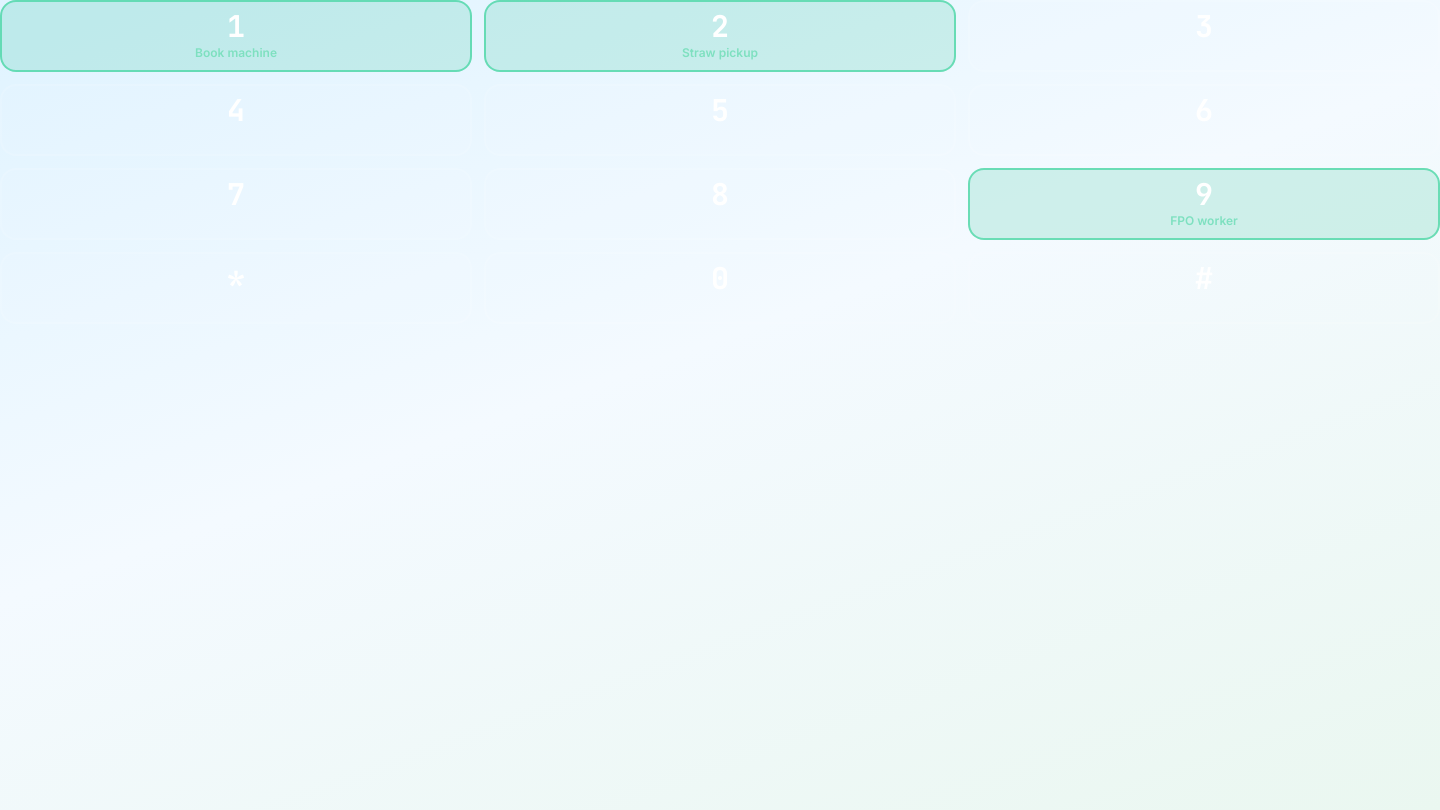
Test: KeypadPanel flow › 0 goes back to the menu and books nothing
The width and height of the screenshot is (1440, 810).
Click the button with aria-label "Press 2" at (720, 36), box [484,0,956,72]
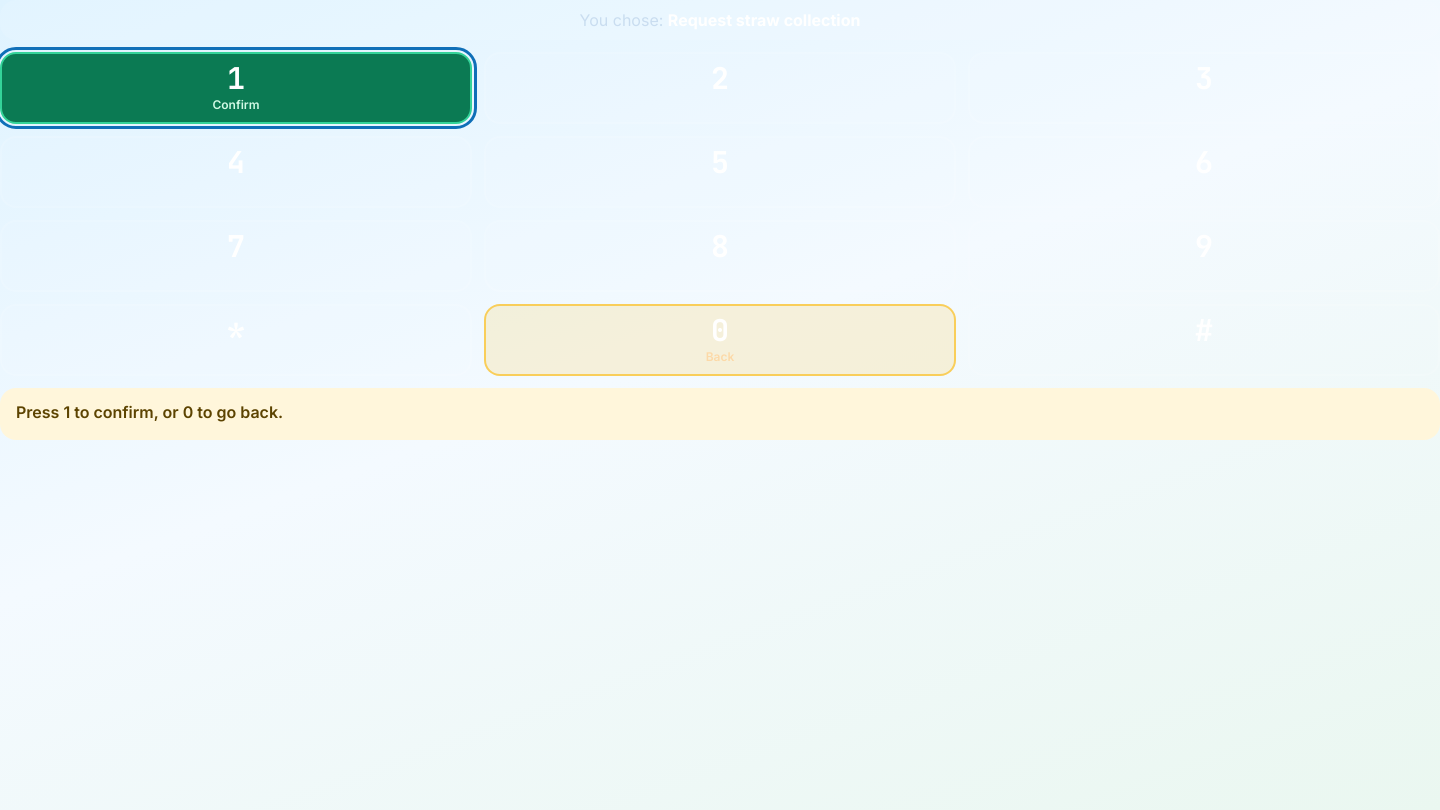
Click the button with aria-label "Press 0: Go back" at (720, 340), box [484,304,956,376]
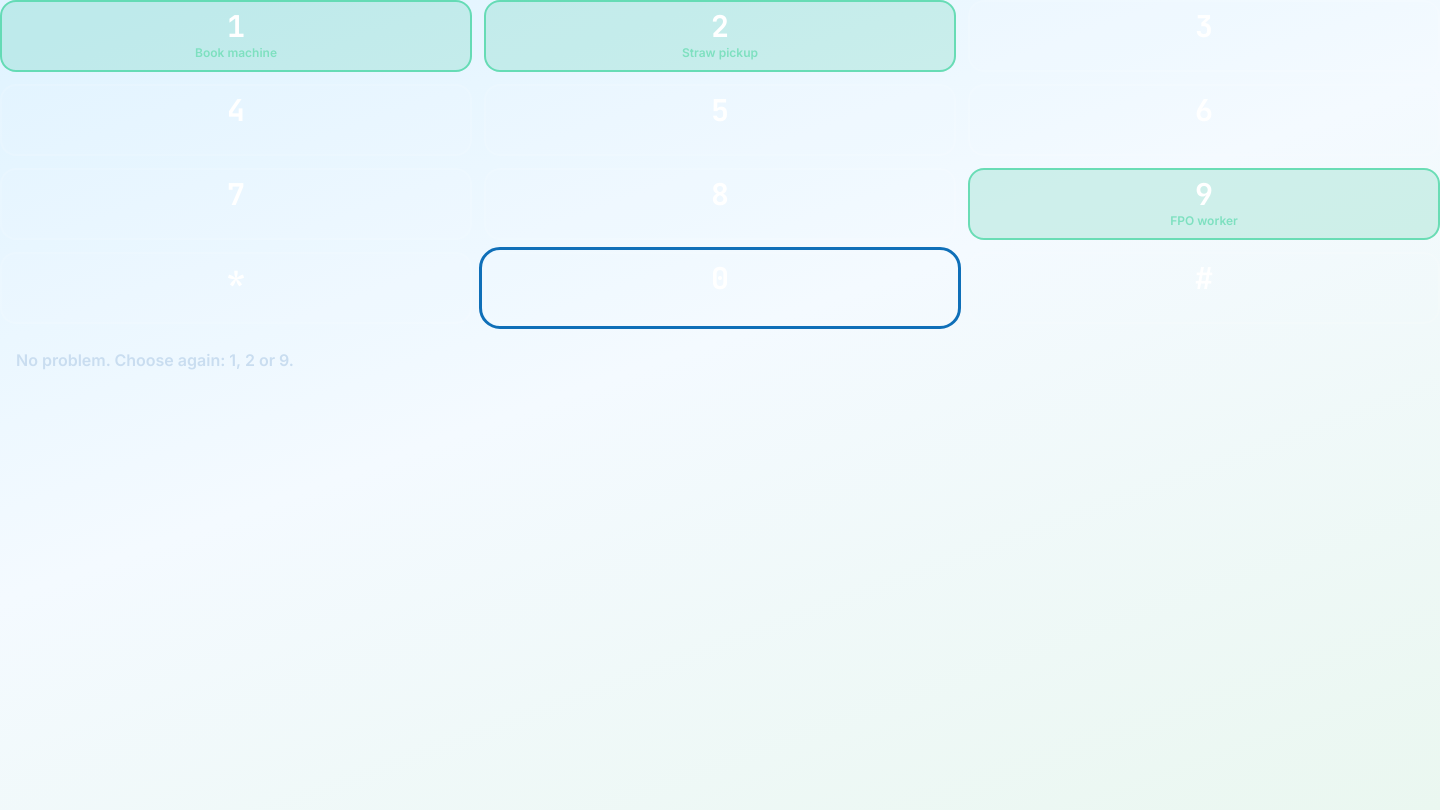
Expected: the element with test id "confirm-step" is gone
Expected: the message with test id "keypad-status" shows "No problem. Choose again", [16,350,294,370]
Expected: the button with aria-label "Press 1: Lock Super Seeder" is shown, [0,0,472,72]
